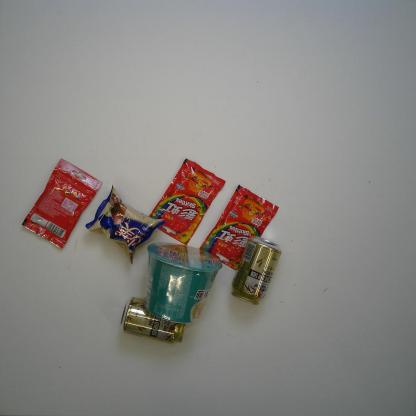Alcohol: (230, 235, 282, 306), (119, 296, 187, 345)
Candy: (21, 158, 103, 248), (199, 184, 279, 271), (149, 157, 226, 246)
Dessert: (85, 184, 166, 266)
Instant Noodles: (142, 241, 223, 325)
